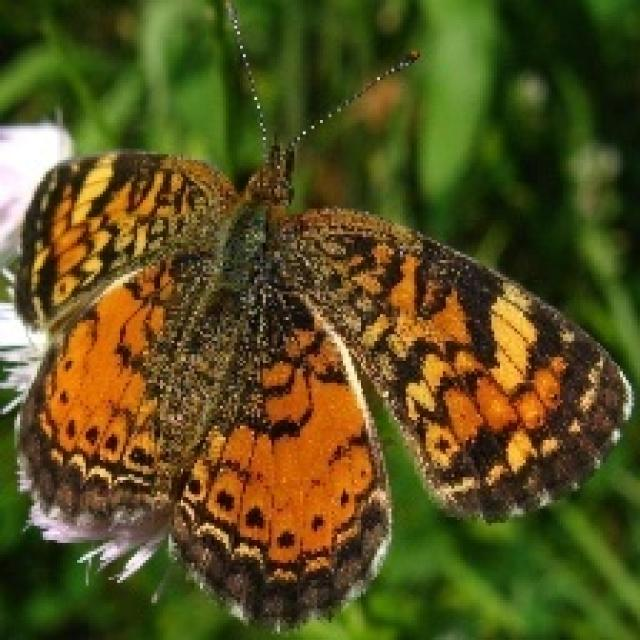butterfly: (5, 0, 634, 634)
